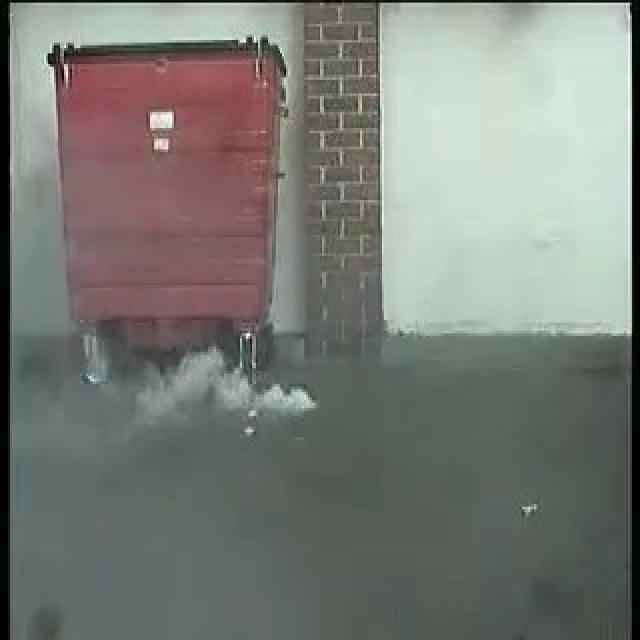smoke: (127, 338, 310, 421)
